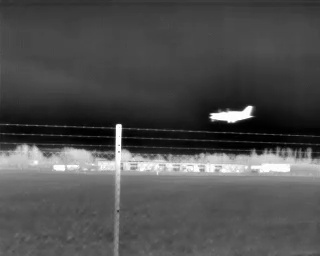AIRPLANE: (208, 104, 256, 126)
